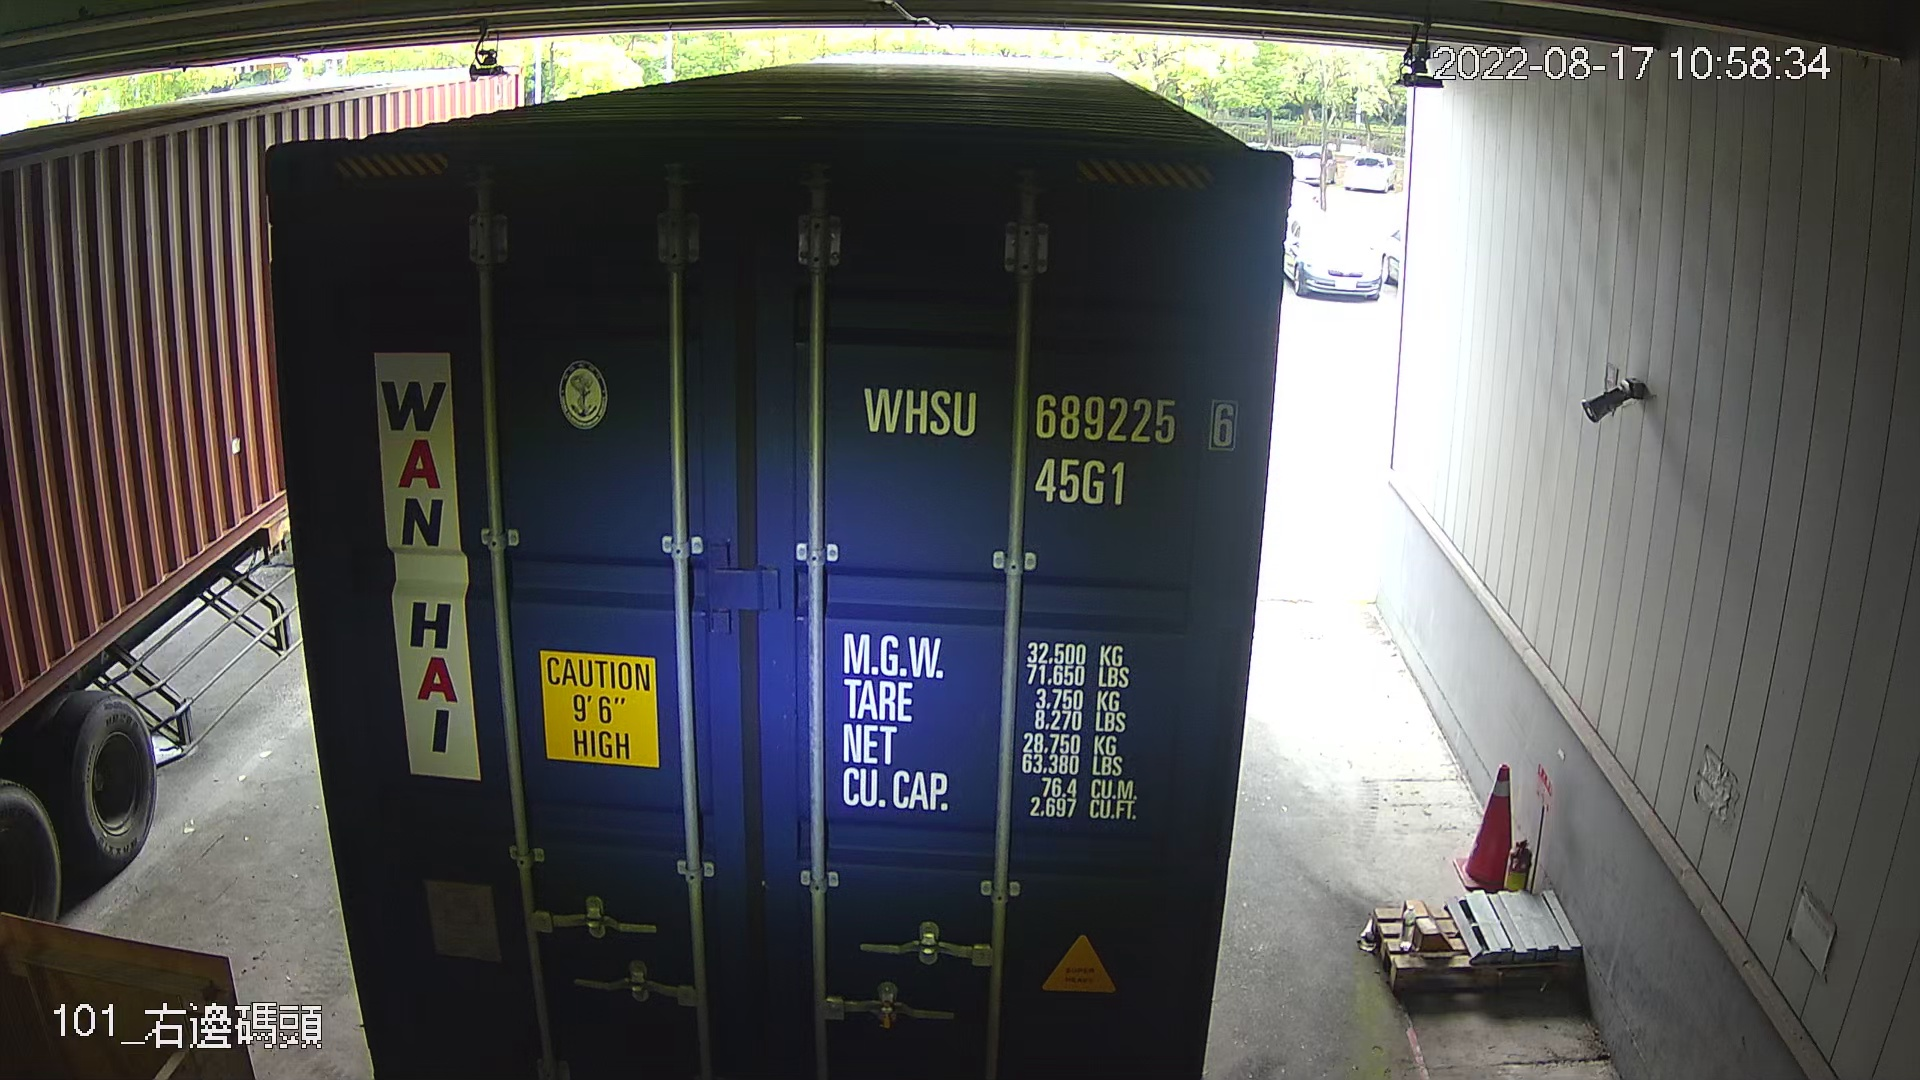container: (848, 361, 1247, 520)
